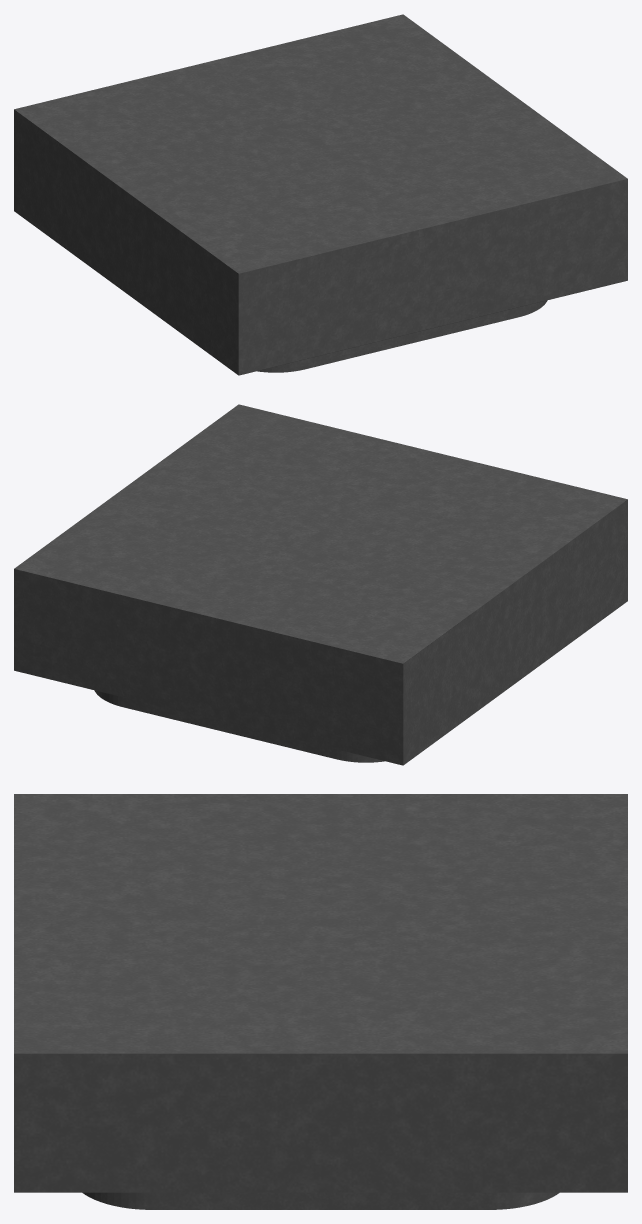
Rendered from ceil_4,00x1,00x4,00_old-concrete_1_1_high.glb.
3 renders of one model, top to bottom at view 1: azimuth 30°, elevation 25°; view 2: azimuth 150°, elevation 25°; view 3: azimuth 270°, elevation 25°, orthographic. The views are drawn at different scales.
Parts seen in each view (by area): view 1: high_1; view 2: high_1; view 3: high_1.
Boxes of the visible parts, x1=… form: high_1: x1=14, y1=14, x2=627, y2=375; high_1: x1=14, y1=404, x2=627, y2=765; high_1: x1=14, y1=794, x2=627, y2=1209.
Size of the model in its own units: 4 by 1.3 by 4.
1 material, 1 textured.
